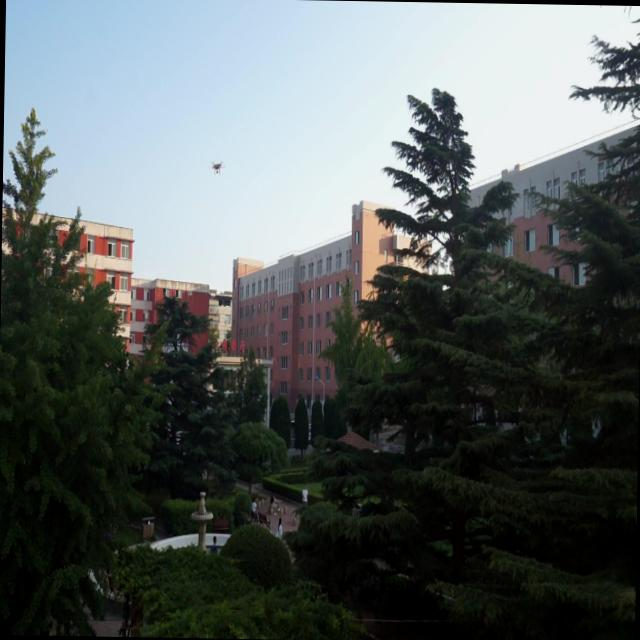drone: (208, 154, 225, 176)
